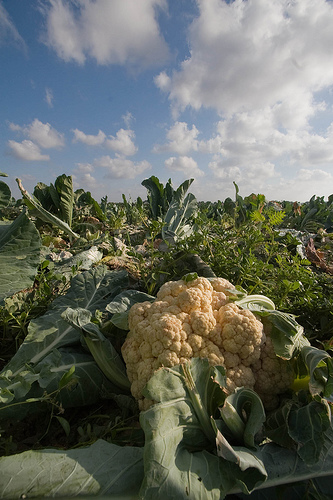cauliflower: (120, 274, 302, 411)
